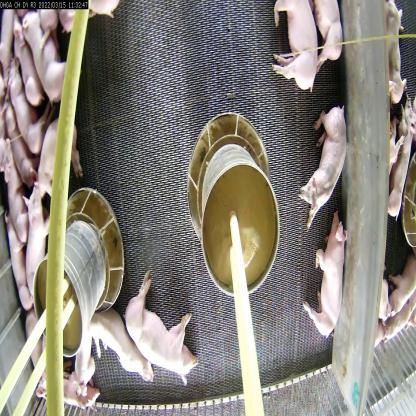Pig: (121, 275, 203, 388), (79, 306, 150, 389), (305, 209, 347, 339), (302, 105, 346, 229), (267, 3, 319, 98), (34, 109, 82, 200), (33, 360, 107, 416), (18, 21, 66, 105), (24, 182, 52, 310), (311, 0, 348, 64)
